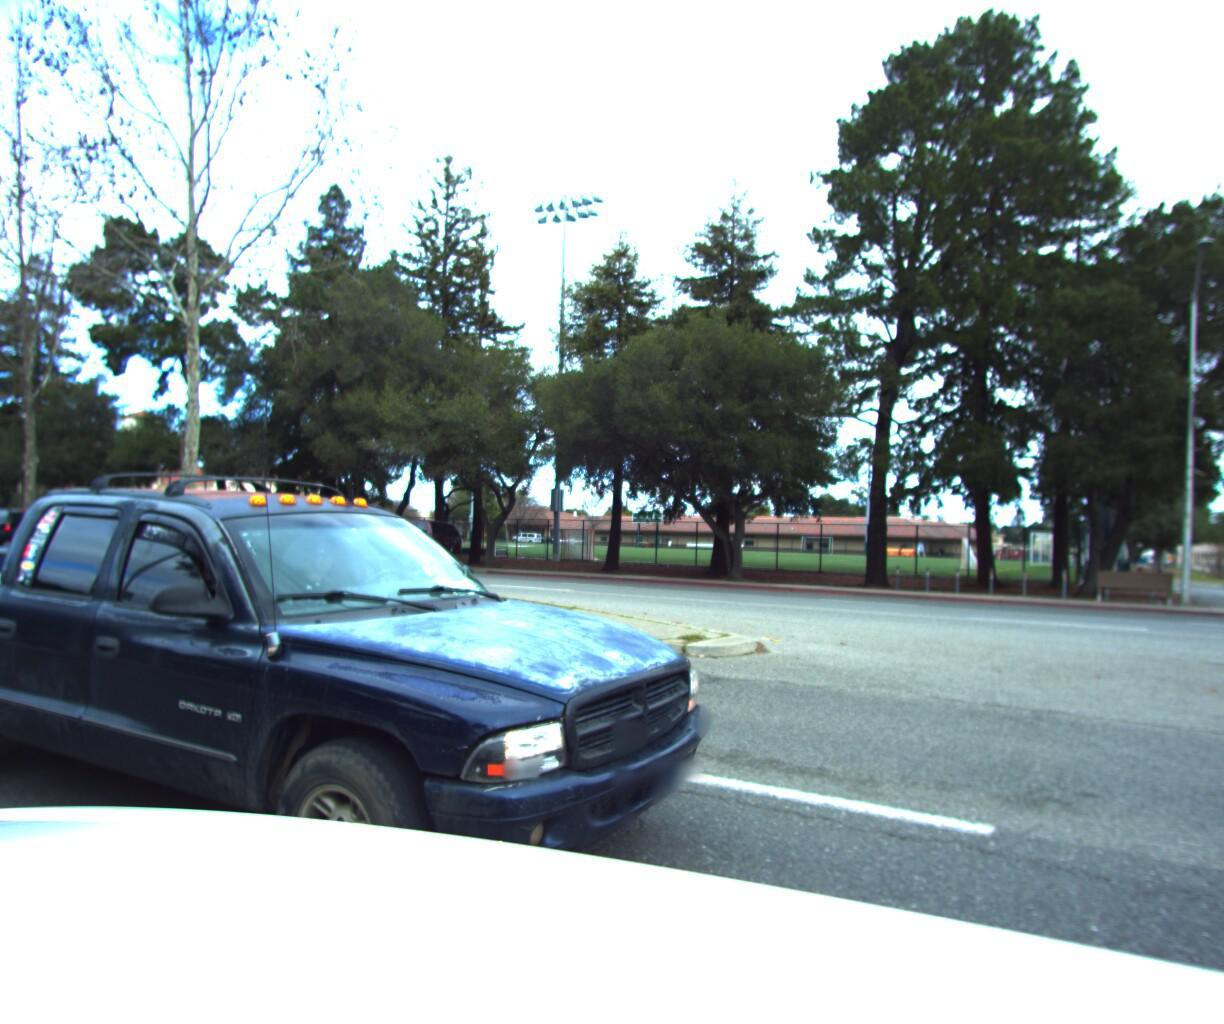car: (0, 421, 746, 1024), (319, 513, 468, 570), (2, 509, 87, 547), (0, 501, 47, 544)
